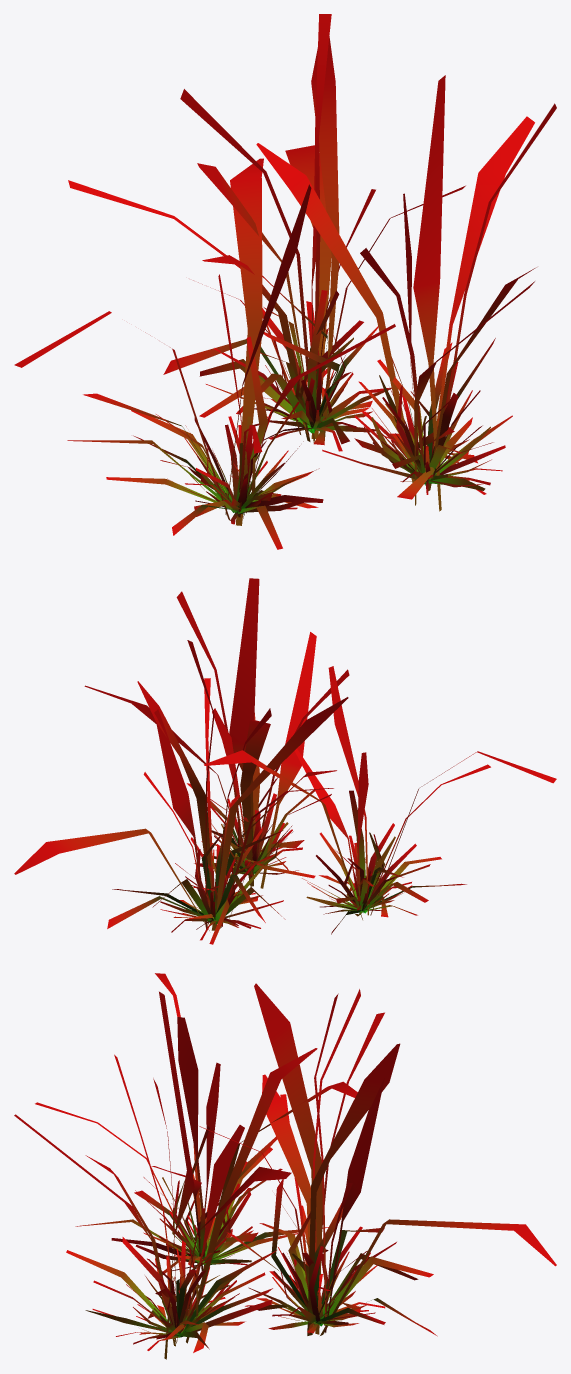
File: Var2_LOD2.fbx
The picture shows the model from 3 angles, top to bottom: view 1: azimuth 30°, elevation 25°; view 2: azimuth 150°, elevation 25°; view 3: azimuth 270°, elevation 25°; orthographic projection. The views are drawn at different scales.
Parts seen in each view (by area): view 1: _9d5a_Var2_LOD2; view 2: _9d5a_Var2_LOD2; view 3: _9d5a_Var2_LOD2.
Boxes of the visible parts, box(x1,y1,x2,y2) form: _9d5a_Var2_LOD2: box(14, 14, 556, 549); _9d5a_Var2_LOD2: box(14, 578, 556, 944); _9d5a_Var2_LOD2: box(14, 973, 556, 1359).
Size of the model in its own units: 135 by 94.58 by 127.
